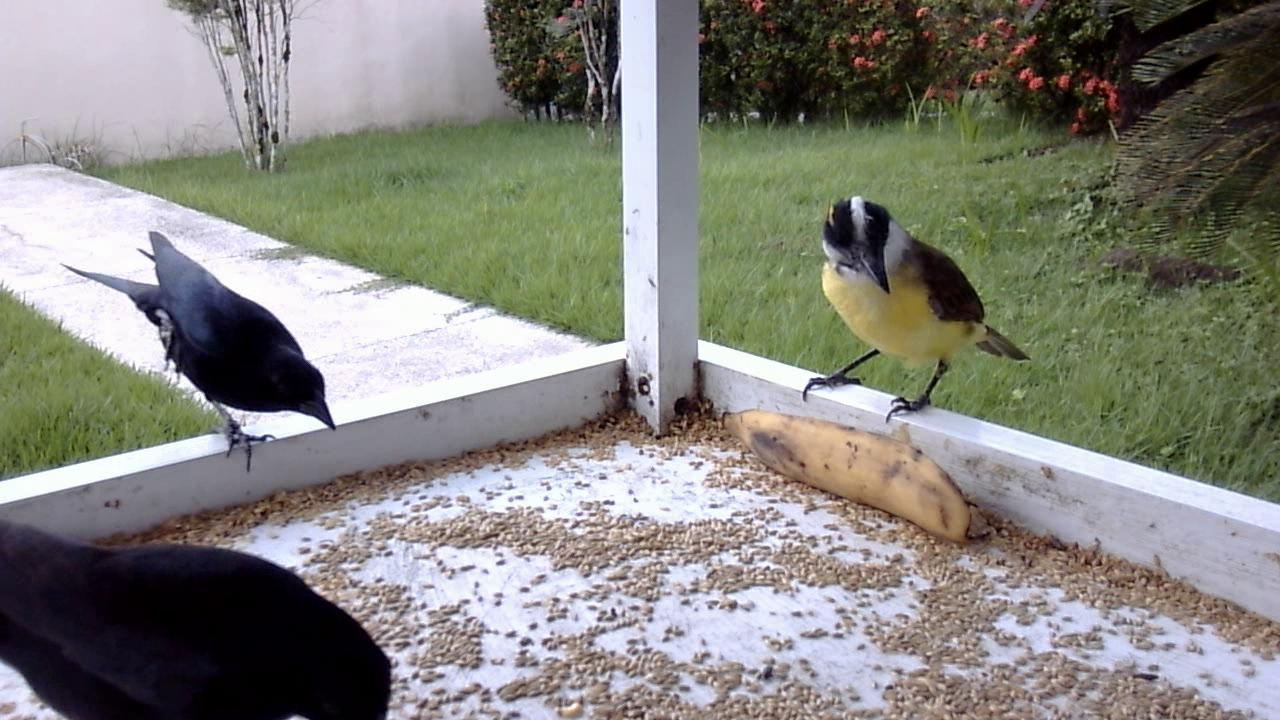bem_te_vi: (794, 191, 1037, 424)
chupim: (1, 526, 400, 720), (57, 224, 347, 466)
